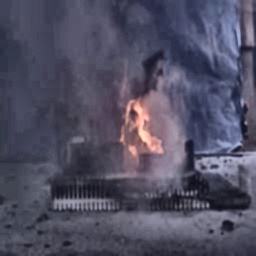fire: (120, 92, 176, 163)
